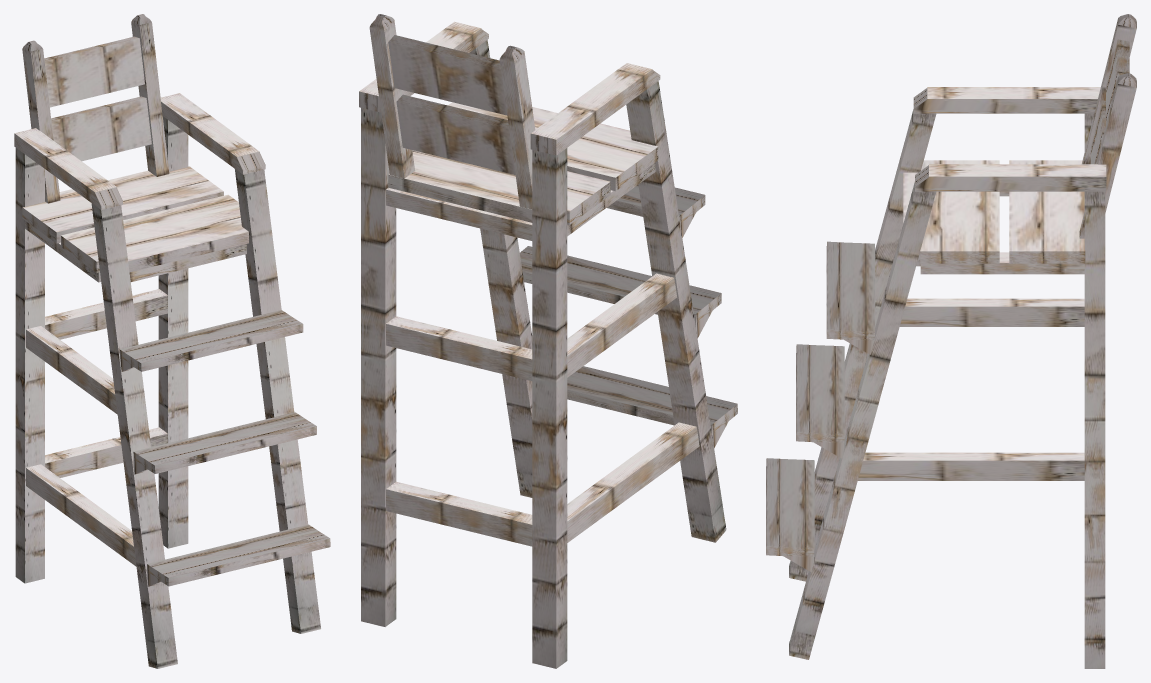
Rendered from lifeguard_chair.glb.
The picture shows the model from 3 angles, left to right: view 1: azimuth 30°, elevation 25°; view 2: azimuth 150°, elevation 25°; view 3: azimuth 270°, elevation 25°; orthographic projection. The views are drawn at different scales.
Visible parts, largest first — view 1: body; view 2: body; view 3: body.
Boxes of the visible parts, left/top/right/bottom form: body: left=14, top=14, right=330, bottom=668; body: left=359, top=14, right=737, bottom=668; body: left=766, top=14, right=1136, bottom=668.
Size of the model in its own units: 0.941 by 2.8 by 1.62.
1 material, 1 textured.
